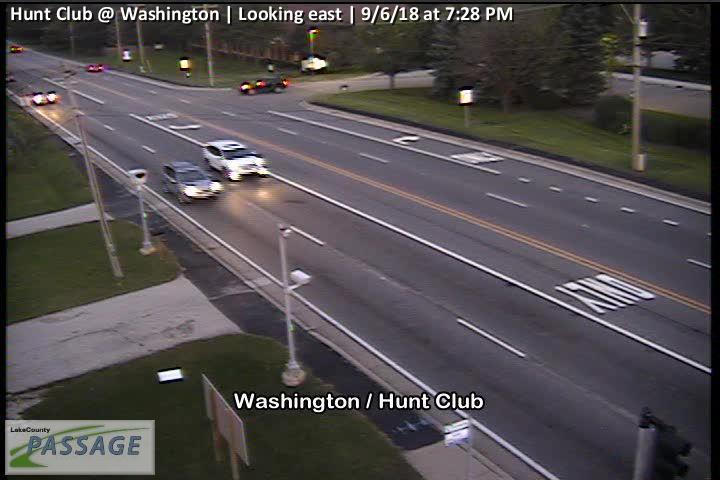Sedan: (201, 138, 268, 180), (160, 162, 222, 202), (238, 74, 287, 97)
